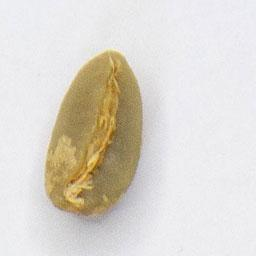longberry: (41, 46, 146, 220)
